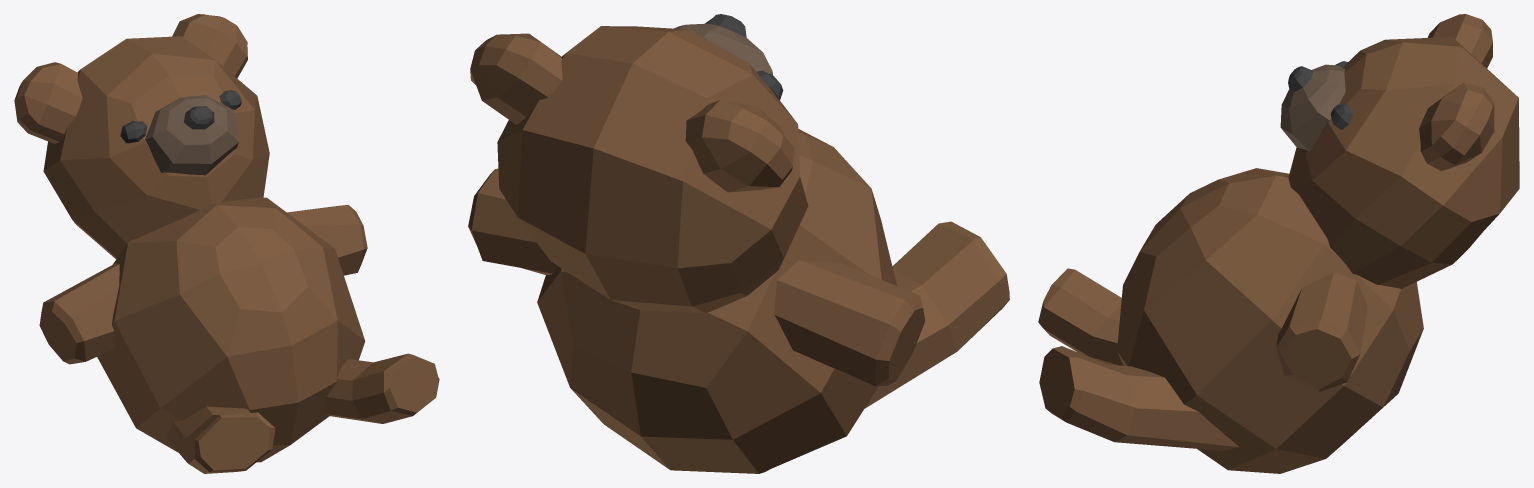
File: Teddy_bear_231109.glb
3 views of the same model, side by side, from view 1: azimuth 30°, elevation 25°; view 2: azimuth 150°, elevation 25°; view 3: azimuth 270°, elevation 25° (orthographic). The views are drawn at different scales.
Parts seen in each view (by area): view 1: Teddy_bear; view 2: Teddy_bear; view 3: Teddy_bear.
Part boxes in pixels (x1,y1,x2,y2): Teddy_bear: (14, 14, 439, 473); Teddy_bear: (468, 14, 1009, 473); Teddy_bear: (1038, 14, 1519, 473).
Bounding box in the file's own units: 0.5849 × 0.6536 × 0.6999.
1 material, 1 textured.
